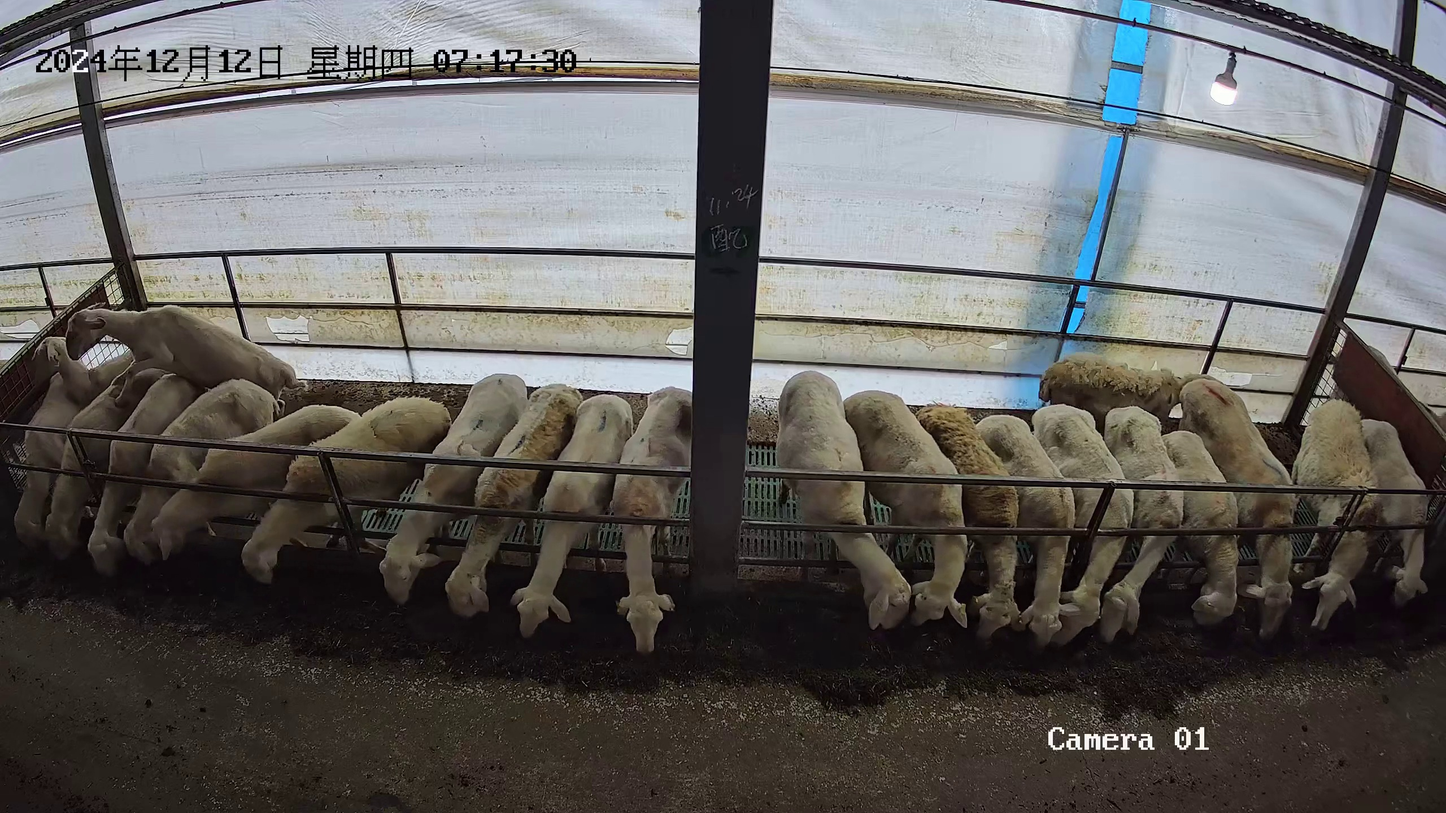Nmounting: (63, 298, 306, 556)
